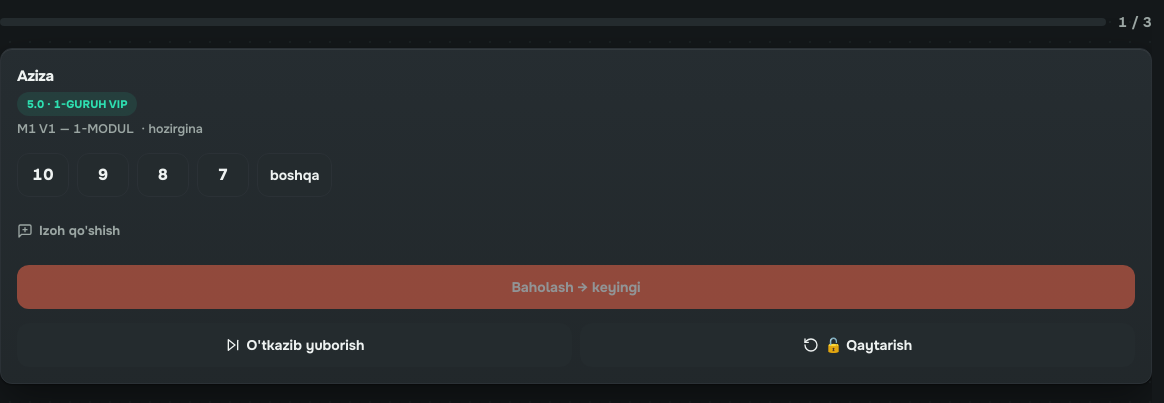
Scenario: TeacherGrade — advance removes the handled card by id (TUI-6) › Ortga during an in-flight grade keeps the re-opened card and its restored score
Expected: the text "Aziza" is shown, top-left (17, 66), bottom-right (54, 86)
Click the button "8".
click(163, 175)  # box top-left (137, 153), bottom-right (189, 197)
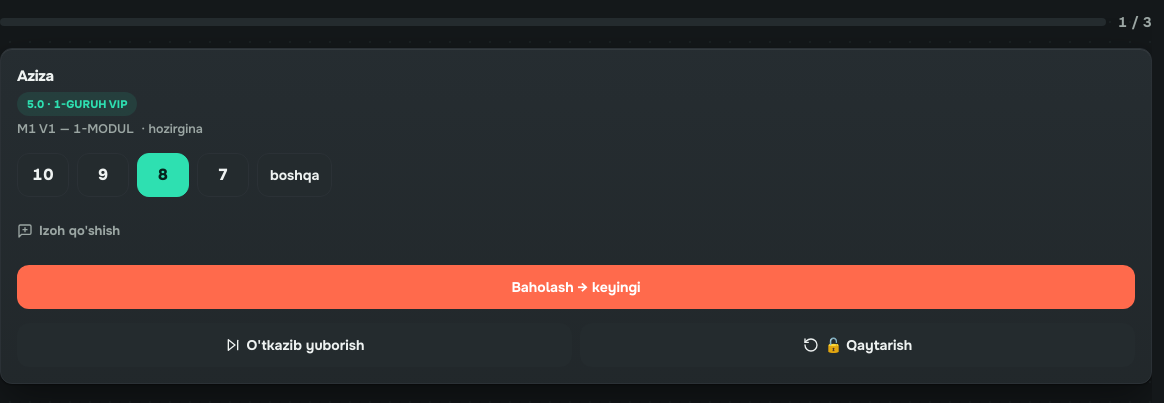
Click the button "Baholash → keyingi".
click(576, 287)  # box top-left (17, 265), bottom-right (1135, 309)
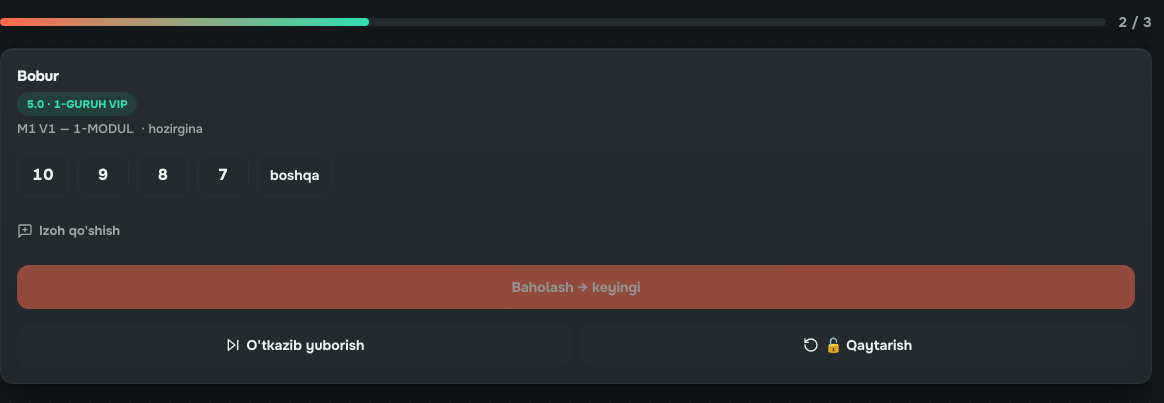
Expected: the text "Bobur" is shown, top-left (17, 66), bottom-right (59, 86)
Click the button "10".
click(43, 175)  # box top-left (17, 153), bottom-right (69, 197)
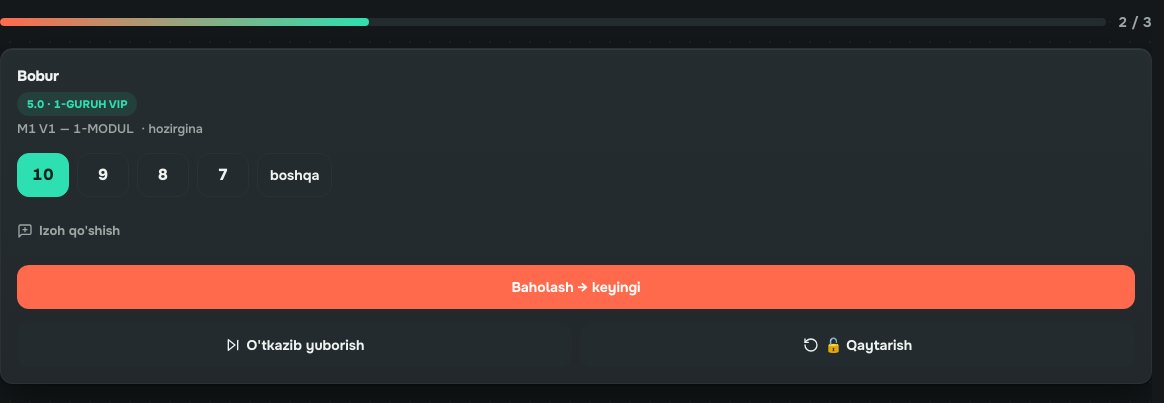
Click the button "Baholash → keyingi".
click(576, 287)  # box top-left (17, 265), bottom-right (1135, 309)
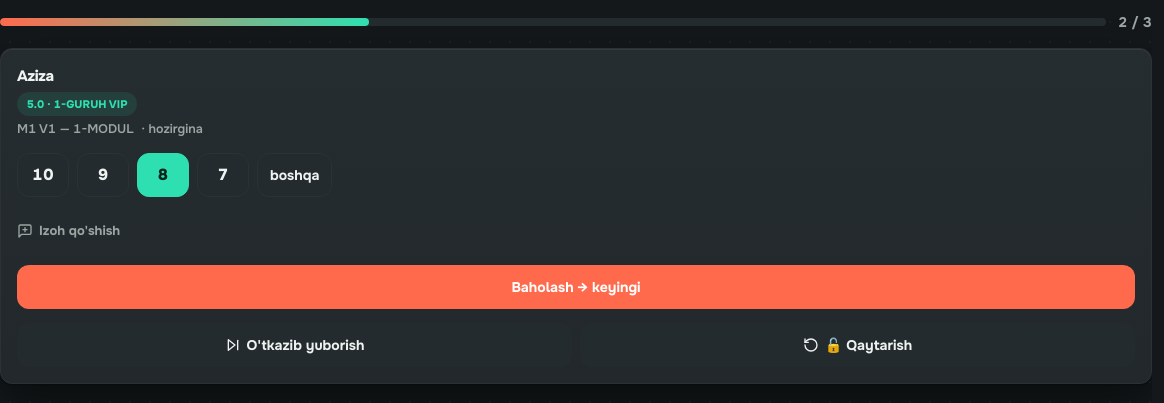
Expected: the text "2 / 3" is shown, top-left (1118, 12), bottom-right (1152, 32)
Expected: the text "Aziza" is shown, top-left (17, 66), bottom-right (54, 86)
Expected: the text "Bobur" is gone
